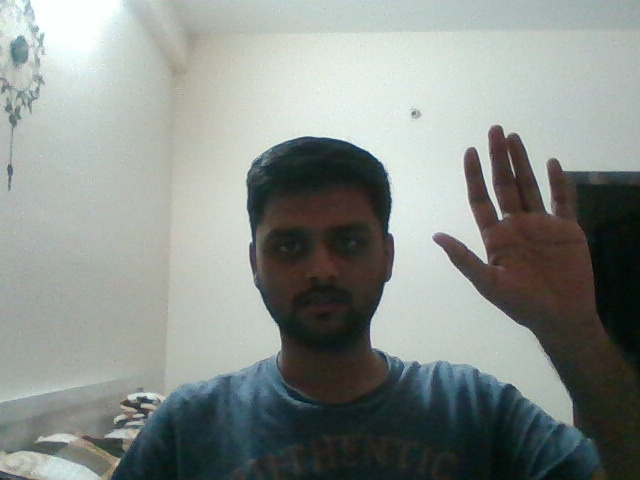hello: (408, 105, 616, 342)
